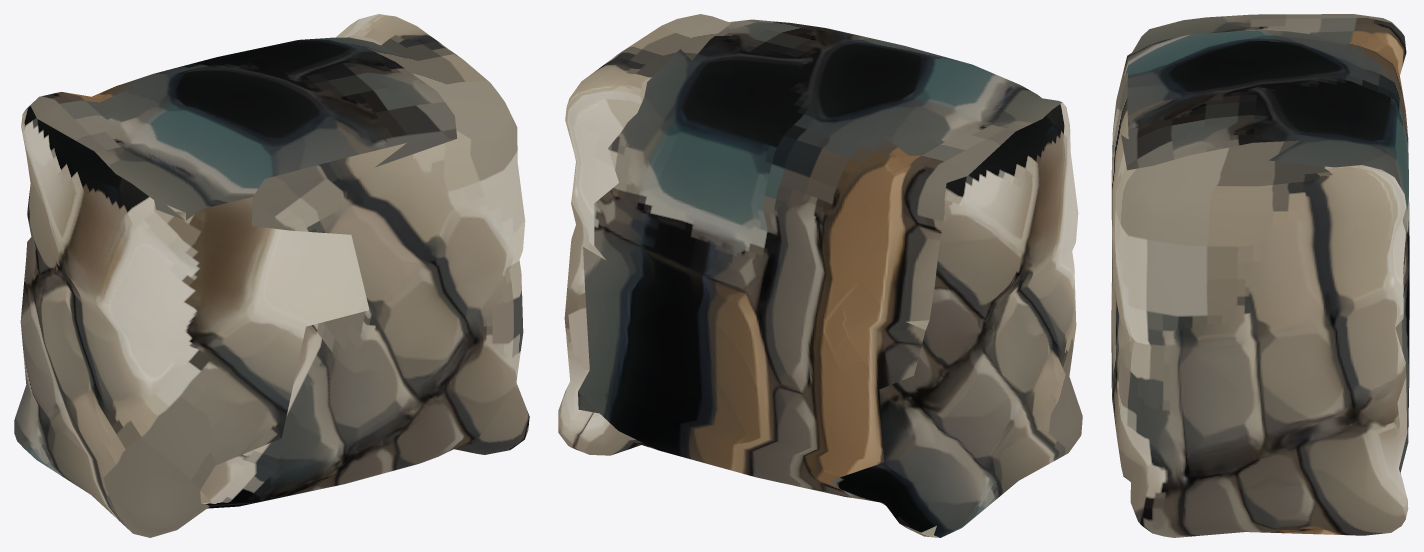
The model's file is SquareBag.fbx.
The picture shows the model from 3 angles, left to right: view 1: azimuth 30°, elevation 25°; view 2: azimuth 150°, elevation 25°; view 3: azimuth 270°, elevation 25°; orthographic projection. The views are drawn at different scales.
Parts seen in each view (by area): view 1: SquareBag; view 2: SquareBag; view 3: SquareBag.
Part boxes in pixels (box(x1,y1,x2,y2)): SquareBag: box(14, 14, 529, 537); SquareBag: box(558, 14, 1082, 537); SquareBag: box(1111, 14, 1409, 537).
Size of the model in its own units: 189 by 167 by 121.
